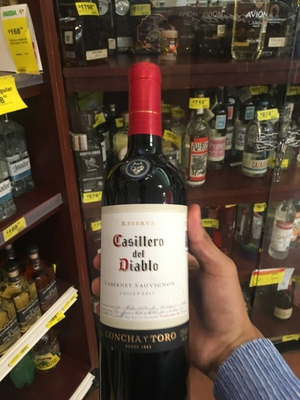casillero del diablo cabernet sauvignon: (92, 62, 202, 400)
